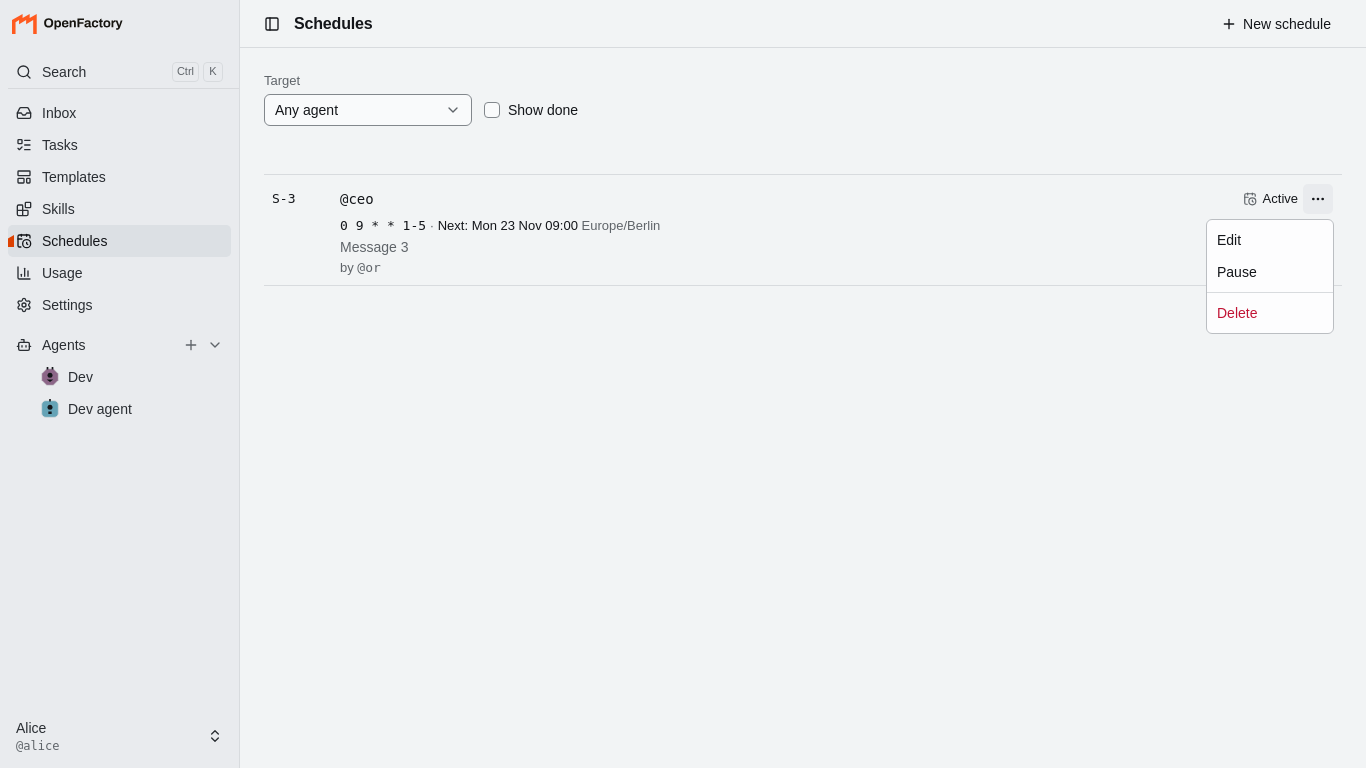
Test case: Pause and Resume apply at once with their outcomes; Delete leaves the row with Undo, which restores it
Earlier steps of the test are not shown.
Step 1. Click the menu item "Pause" → (1237, 272), box [1217,264,1257,280]
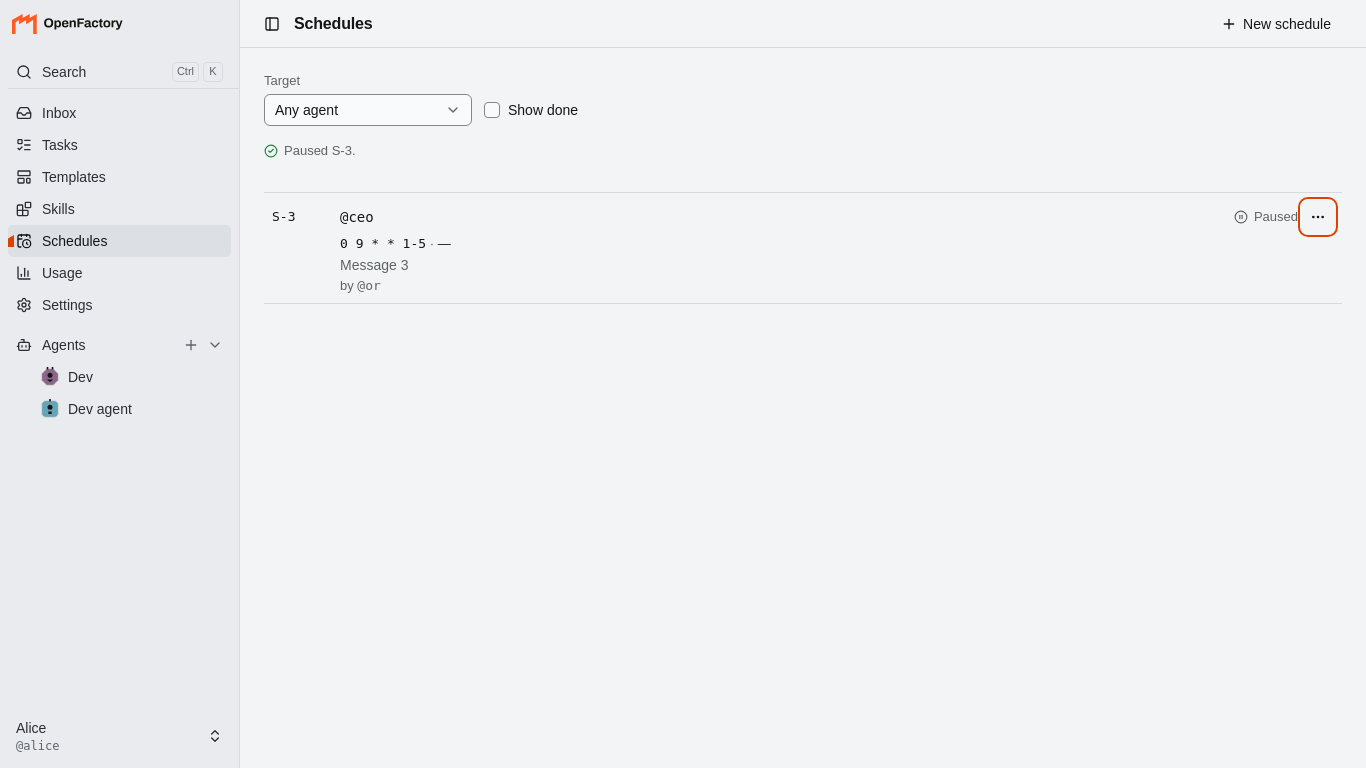
Result: the text "Paused S-3." is shown at [284,142,356,160]
Step 2. Click the button named "Actions for S-3" → (1318, 217), box [1302,201,1334,233]
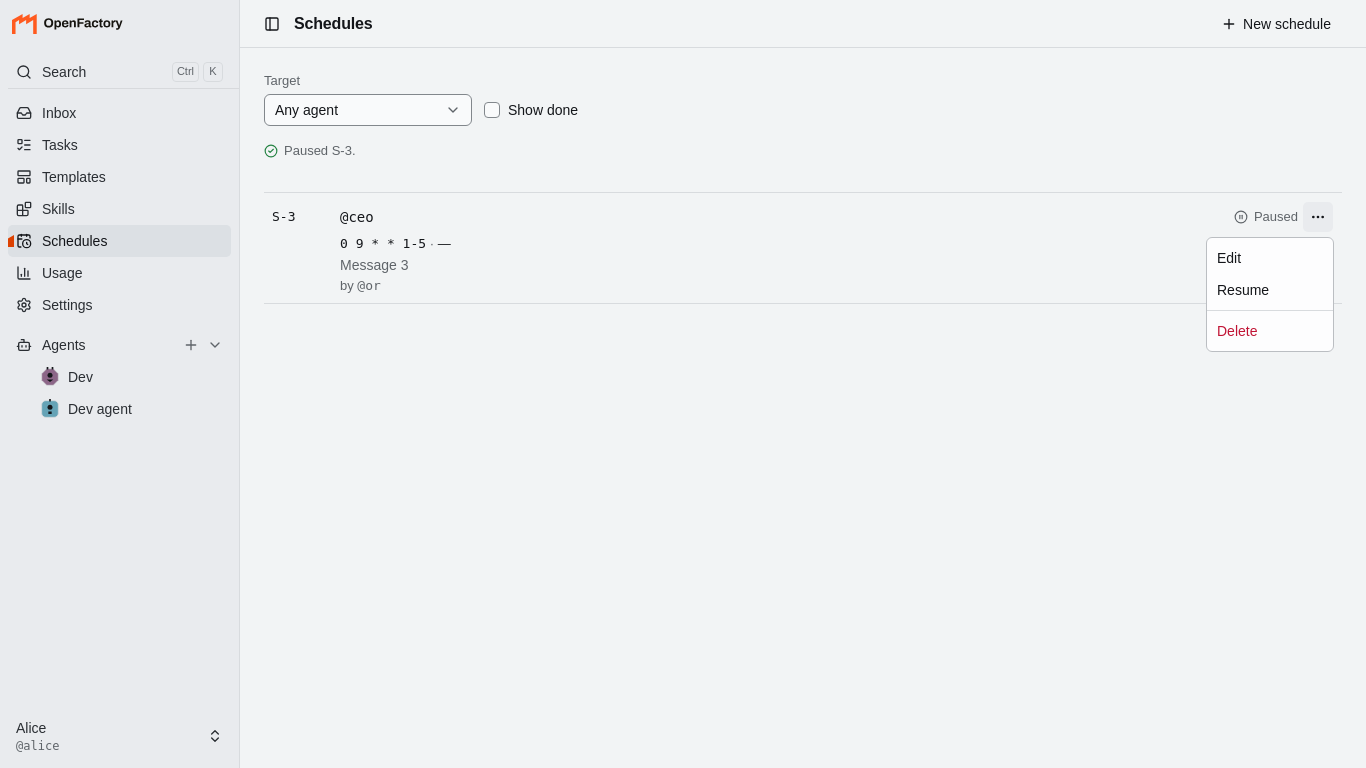
Step 3. Click the menu item "Resume" → (1243, 290), box [1217,282,1269,298]
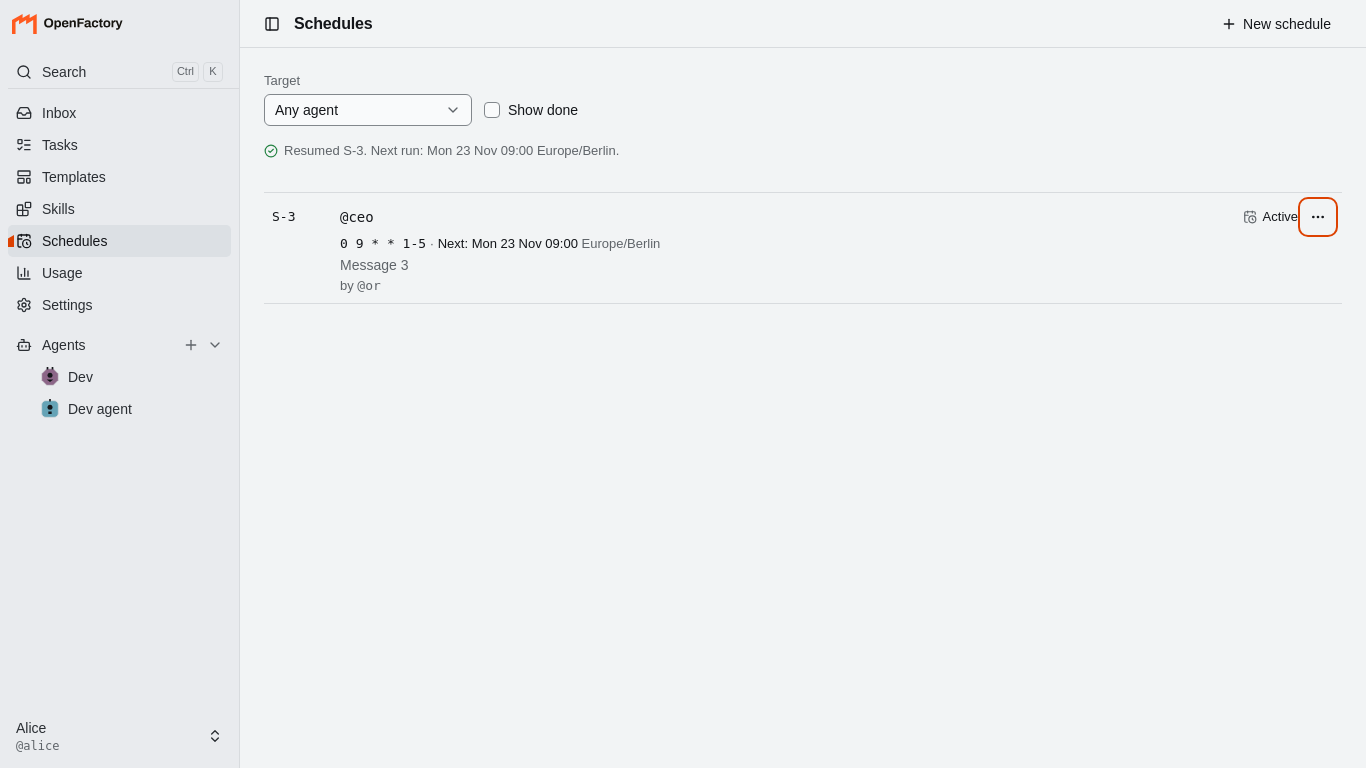
Result: the text "Resumed S-3. Next run: Mon 23 Nov 09:00 Europe/Berlin." is shown at [284,142,619,160]
Step 4. Click the button named "Actions for S-3" → (1318, 217), box [1302,201,1334,233]
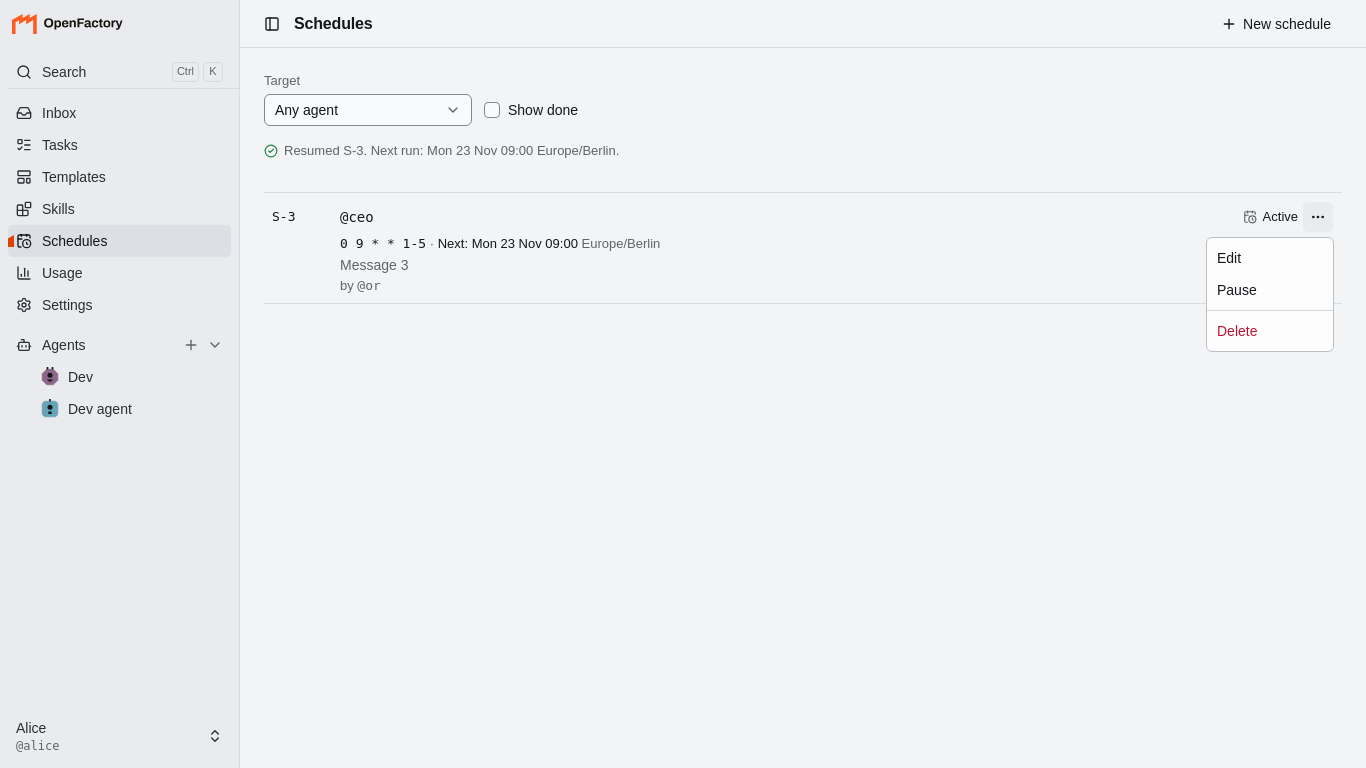
Result: the menu item "Delete" is shown
Step 5. Click the menu item "Delete" → (1237, 331), box [1217,323,1258,339]
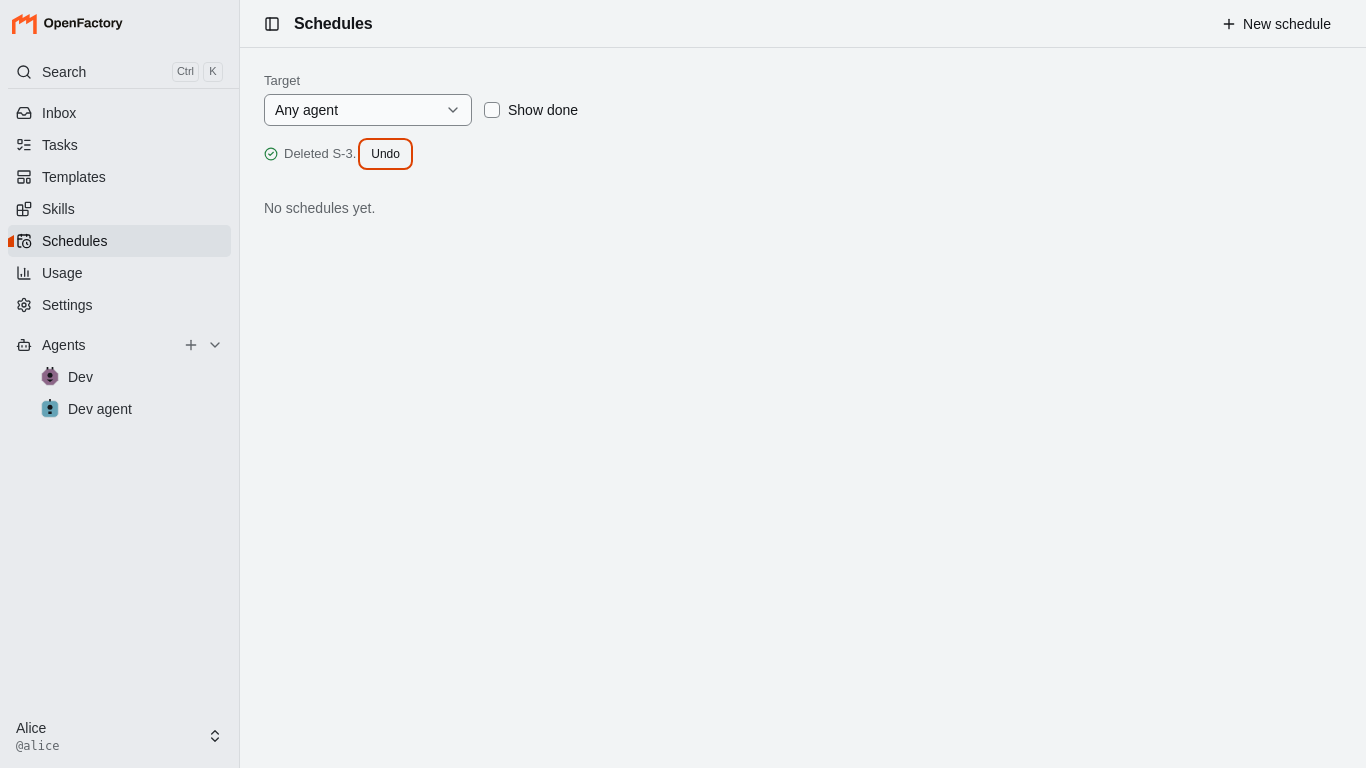
Result: the text "Deleted S-3." is shown at [284,145,356,163]
Step 6. Click the button "Undo" → (386, 154), box [362,142,409,166]
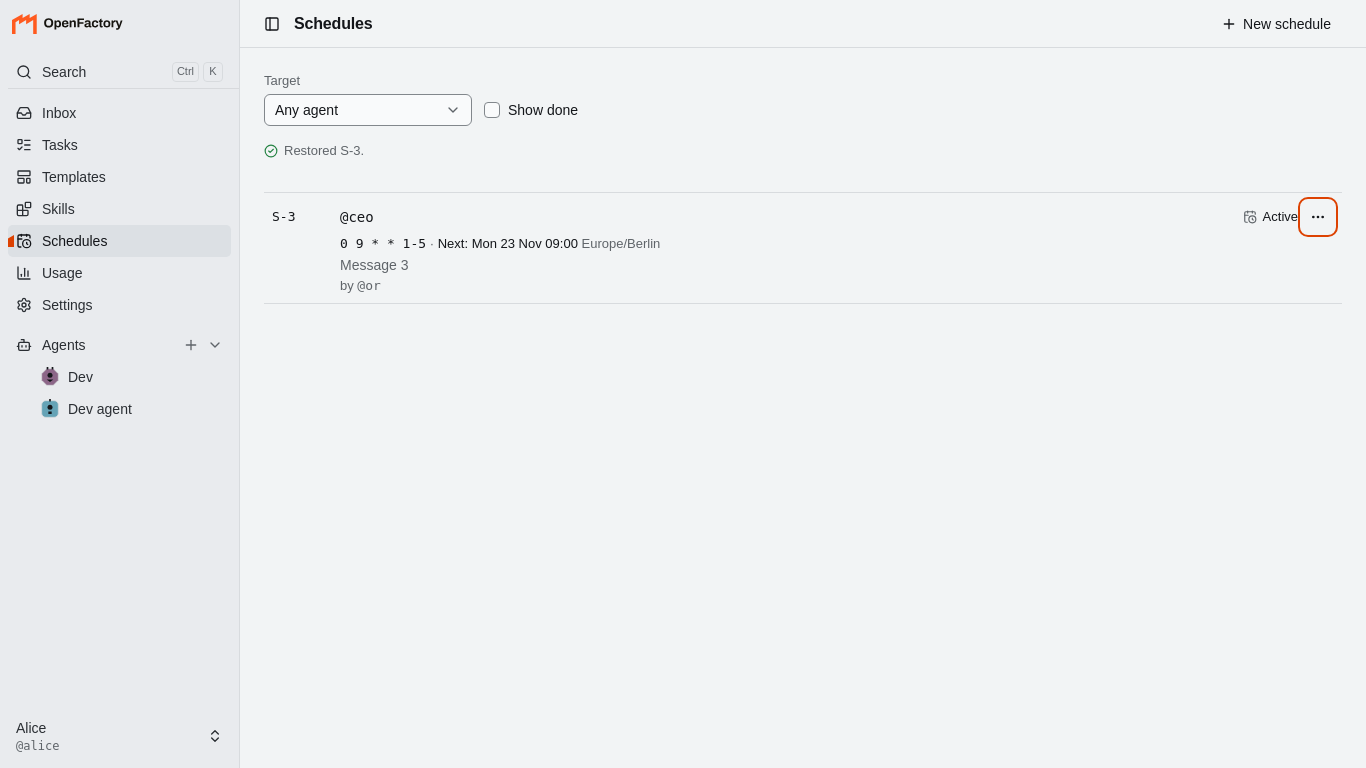
Result: the text "Restored S-3." is shown at [284,142,364,160]
